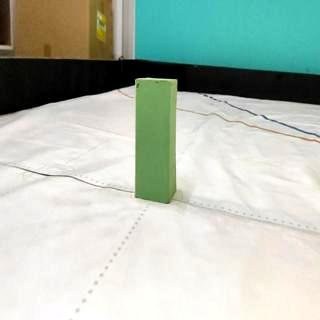greenbox: (134, 78, 178, 205)
